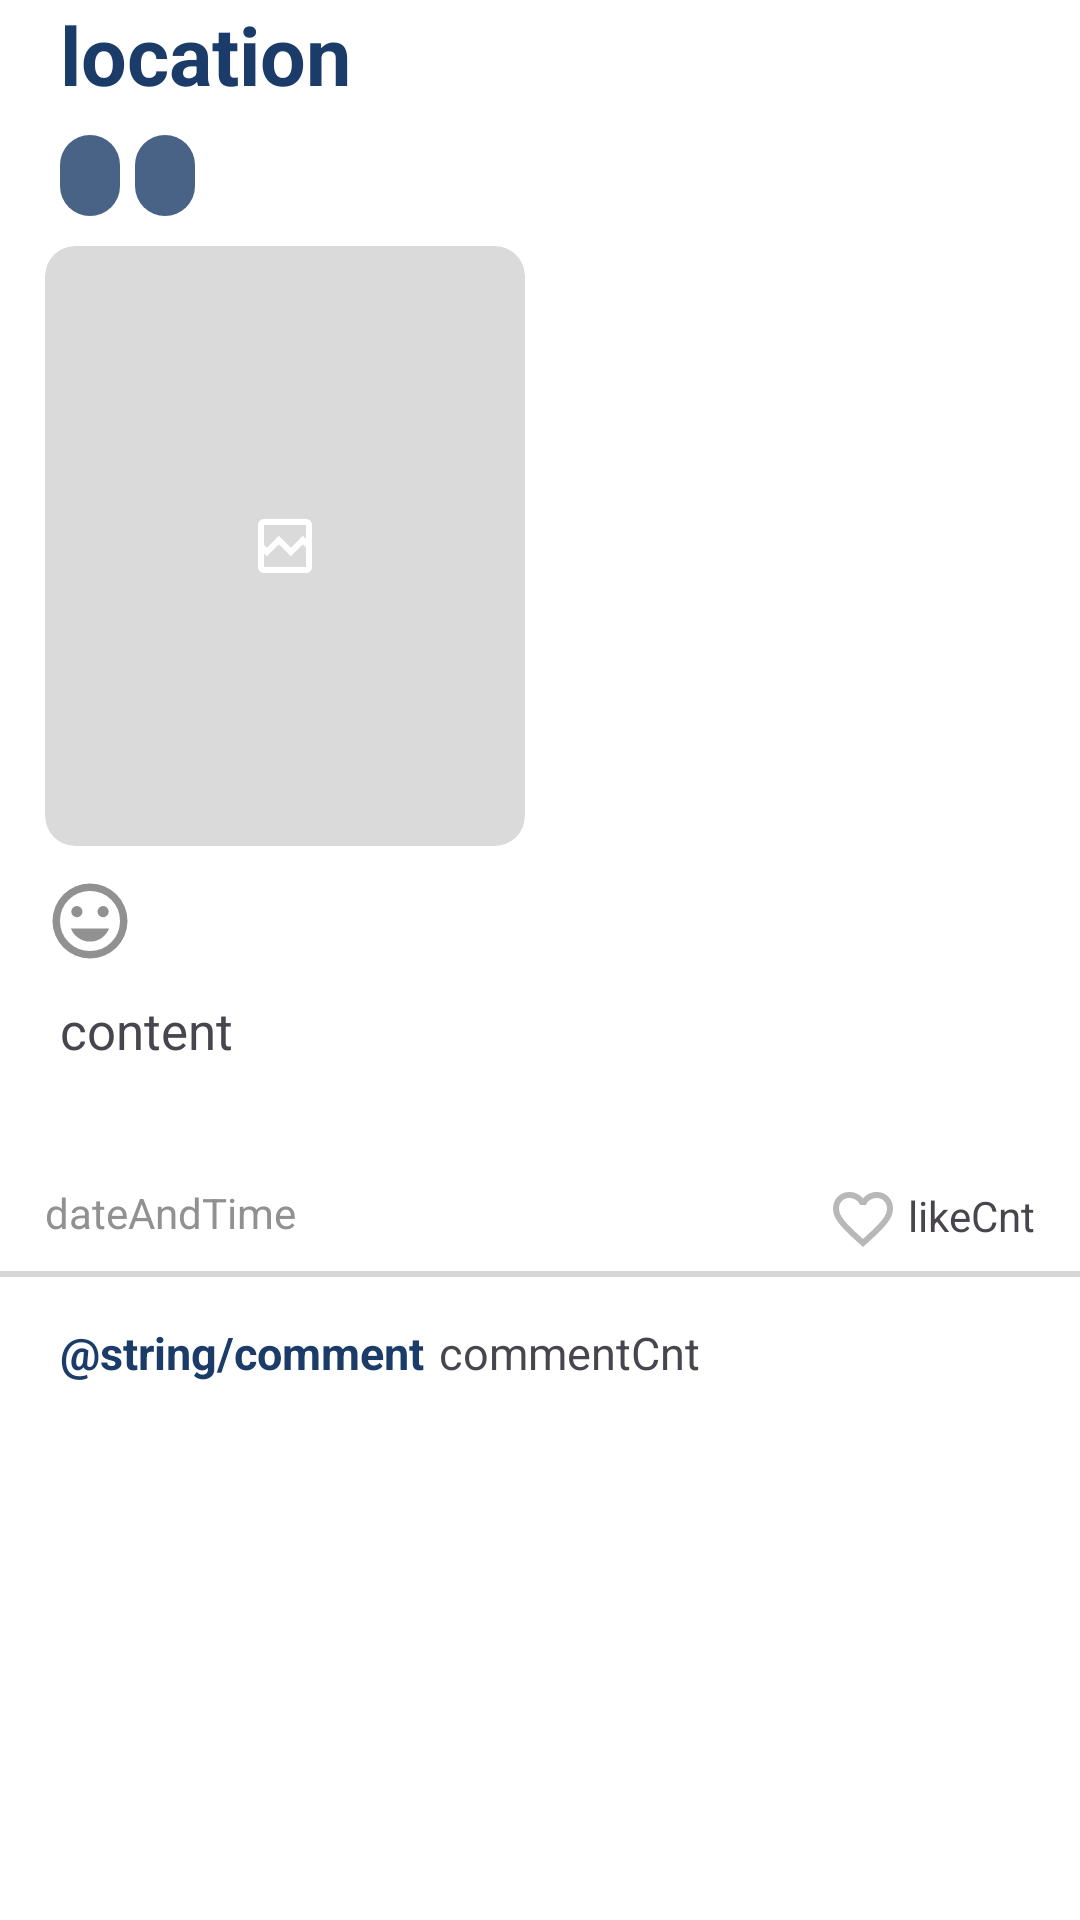

Where to tap for icons on this 1080×1920 app screen, as (x,y):
favorite: (863,1219)
mood: (90,921)
